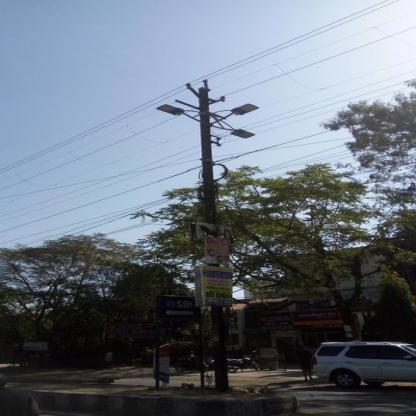Electrical Pole: (151, 77, 286, 388)
